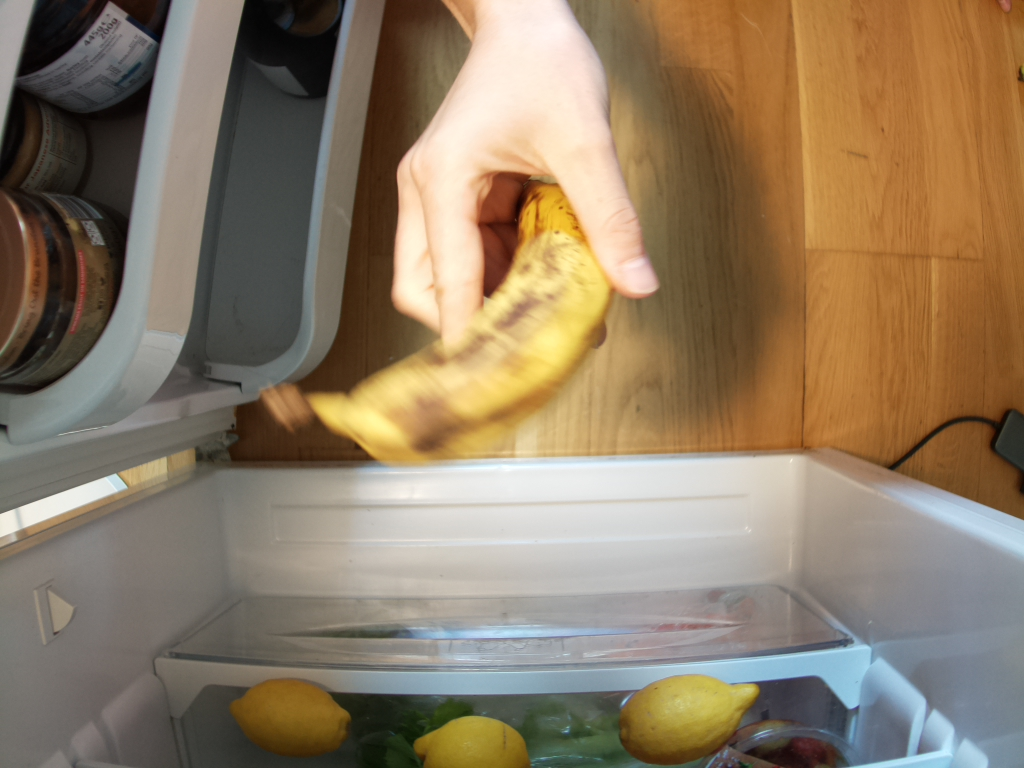banana-overripe: (268, 184, 610, 463)
